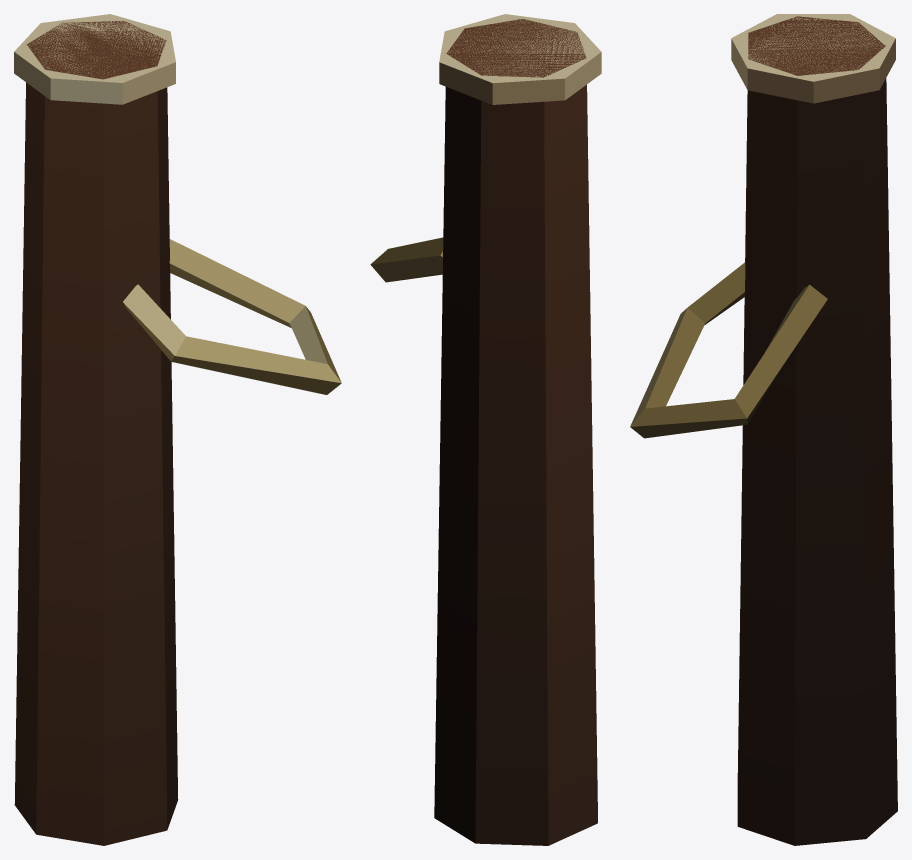
Rendered from pier_post.glb.
3 views of the same model, side by side, from view 1: azimuth 30°, elevation 25°; view 2: azimuth 150°, elevation 25°; view 3: azimuth 270°, elevation 25° (orthographic).
Parts seen in each view (by area): view 1: pier_post; view 2: pier_post; view 3: pier_post.
Boxes of the visible parts, box(x1,y1,x2,y2) form: pier_post: box(14, 14, 341, 845); pier_post: box(370, 14, 601, 845); pier_post: box(630, 14, 897, 845).
Size of the model in its own units: 0.2413 by 0.7 by 0.2222.
